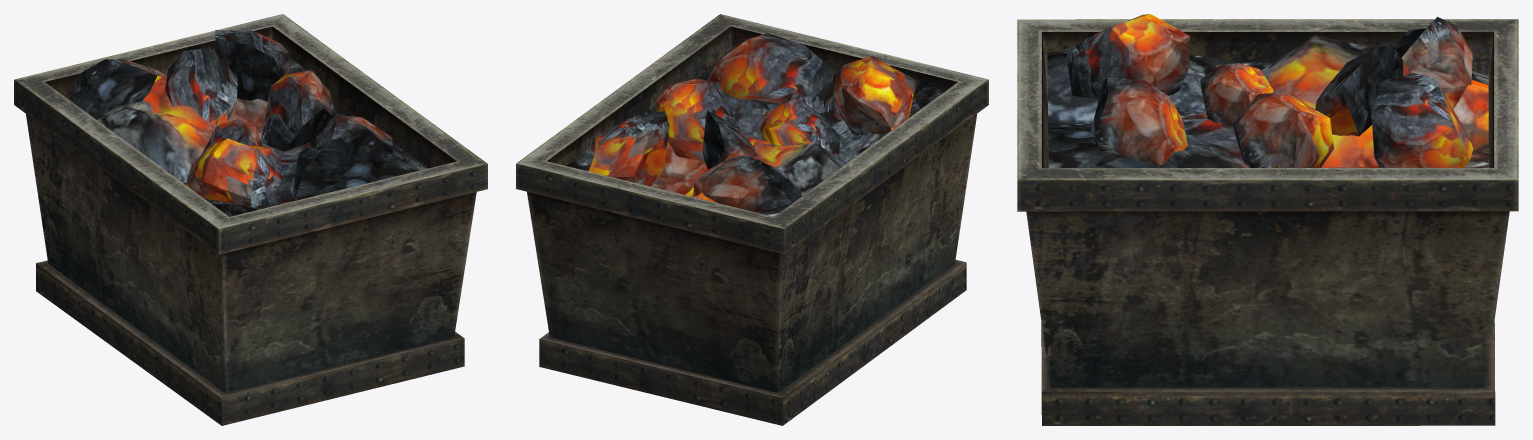
The model's file is fortms_box_smithy01.fbx.
3 views of the same model, side by side, from view 1: azimuth 30°, elevation 25°; view 2: azimuth 150°, elevation 25°; view 3: azimuth 270°, elevation 25° (orthographic). The views are drawn at different scales.
Parts seen in each view (by area): view 1: fortms_box_smithy01; view 2: fortms_box_smithy01; view 3: fortms_box_smithy01.
Boxes of the visible parts, box(x1,y1,x2,y2) form: fortms_box_smithy01: box(14, 14, 487, 425); fortms_box_smithy01: box(516, 14, 988, 425); fortms_box_smithy01: box(1017, 14, 1518, 425).
Bounding box in the file's own units: 1.46 × 1.29 × 1.92.
